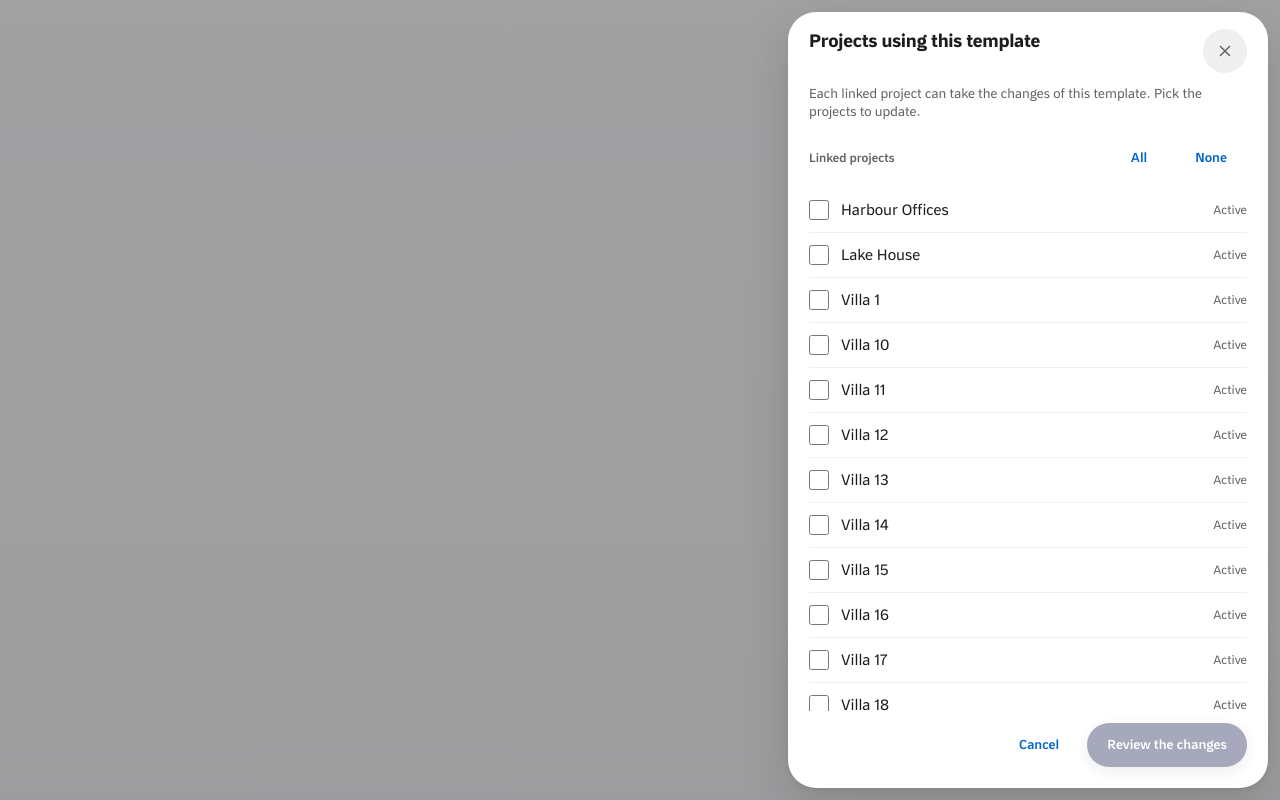
Test: Projects using this template › ticks at most 50 of 51 linked projects, and the review still opens
Click the button "All".
click(1139, 158)  # box [1111,136,1167,180]
(page scrolled)
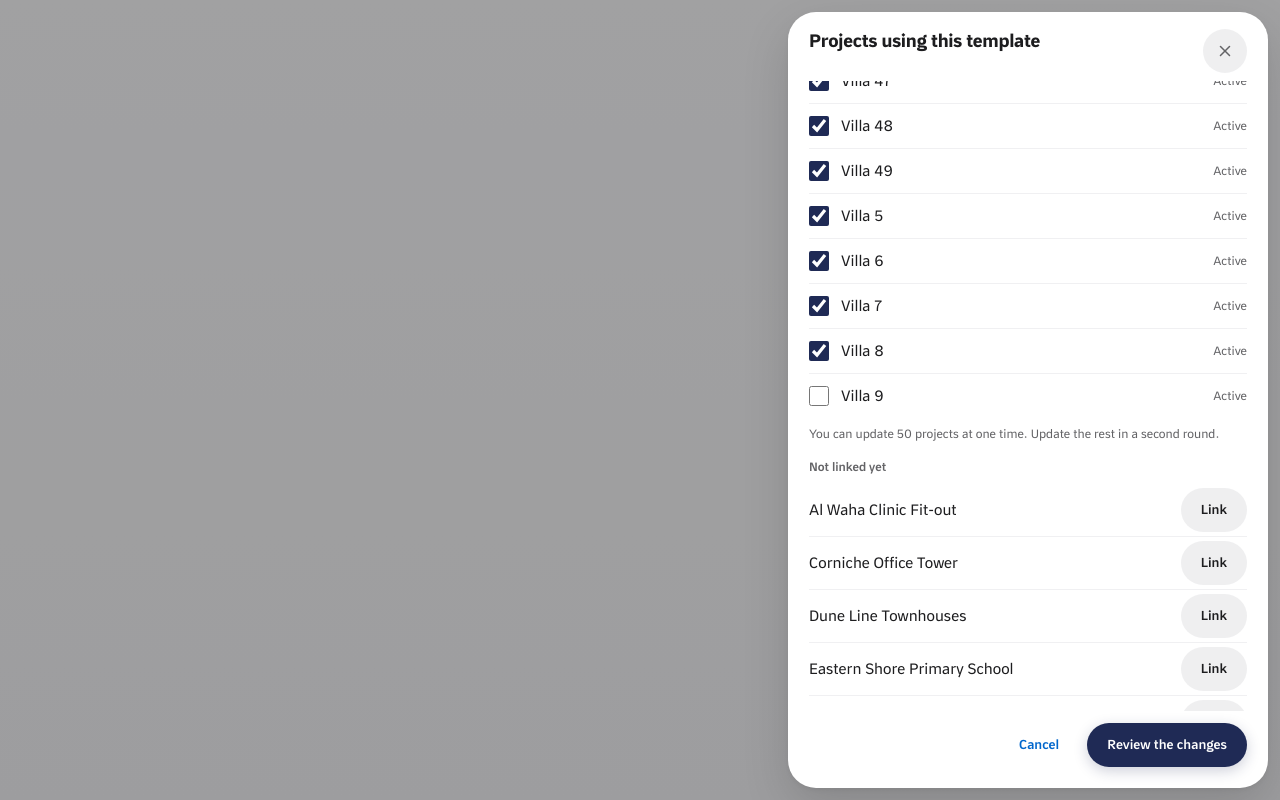
Expected: the text "You can update 50 projects at one time. Update the rest in a second round." is shown, [809,426,1247,442]
Click the checkbox labelled "Villa 9 Active".
click(819, 396)  # box [809,386,829,406]
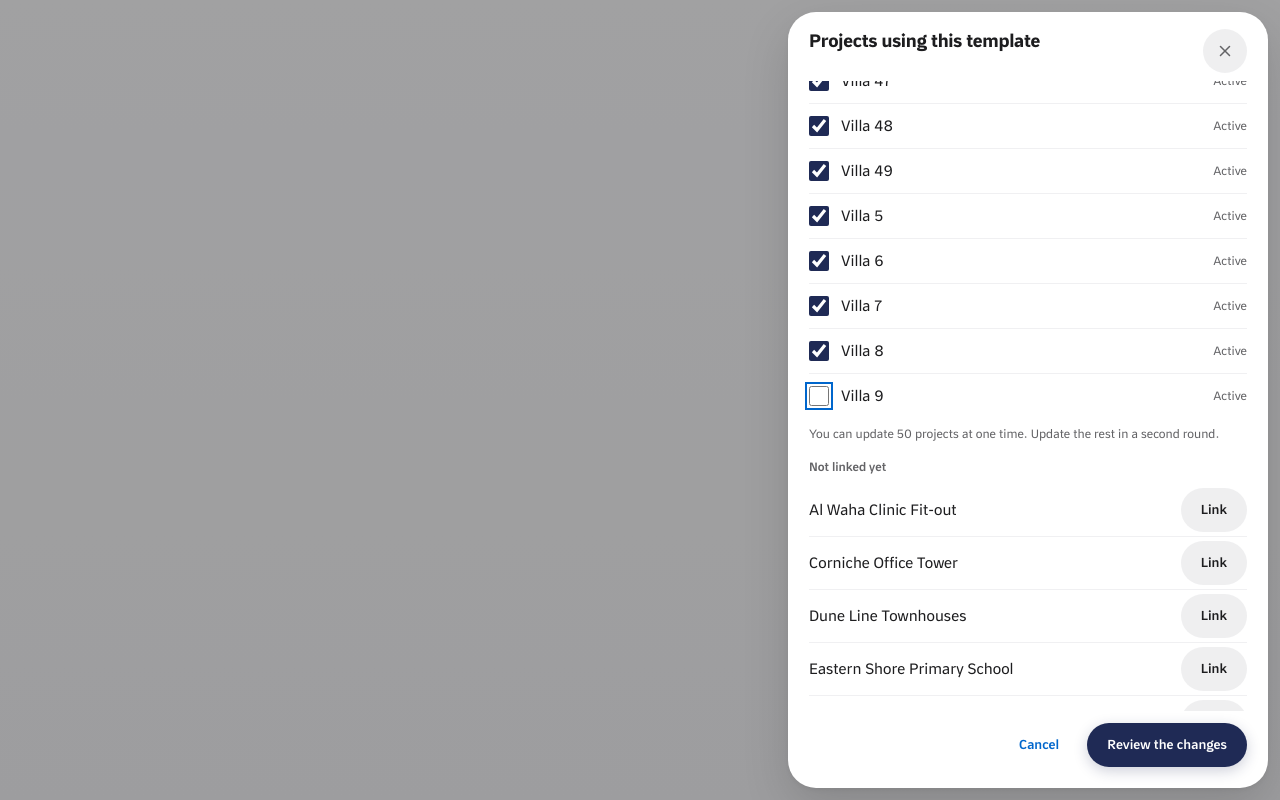
Click the button "Review the changes".
click(1167, 745)  # box [1087,723,1247,767]
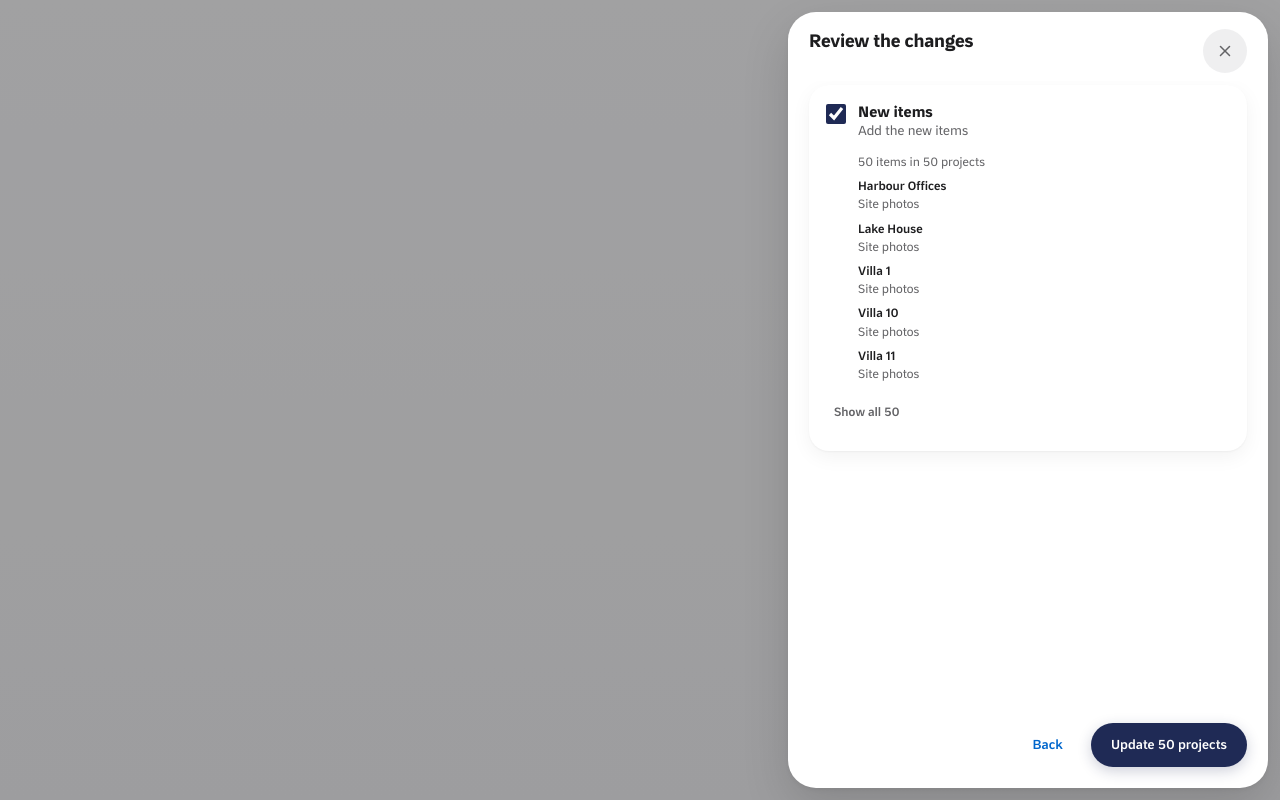
Expected: the text "50 items in 50 projects" is shown, [858,154,985,169]
